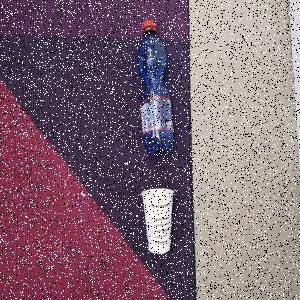Cup: (142, 189, 176, 256)
Plastic-bottle: (137, 19, 175, 159)
